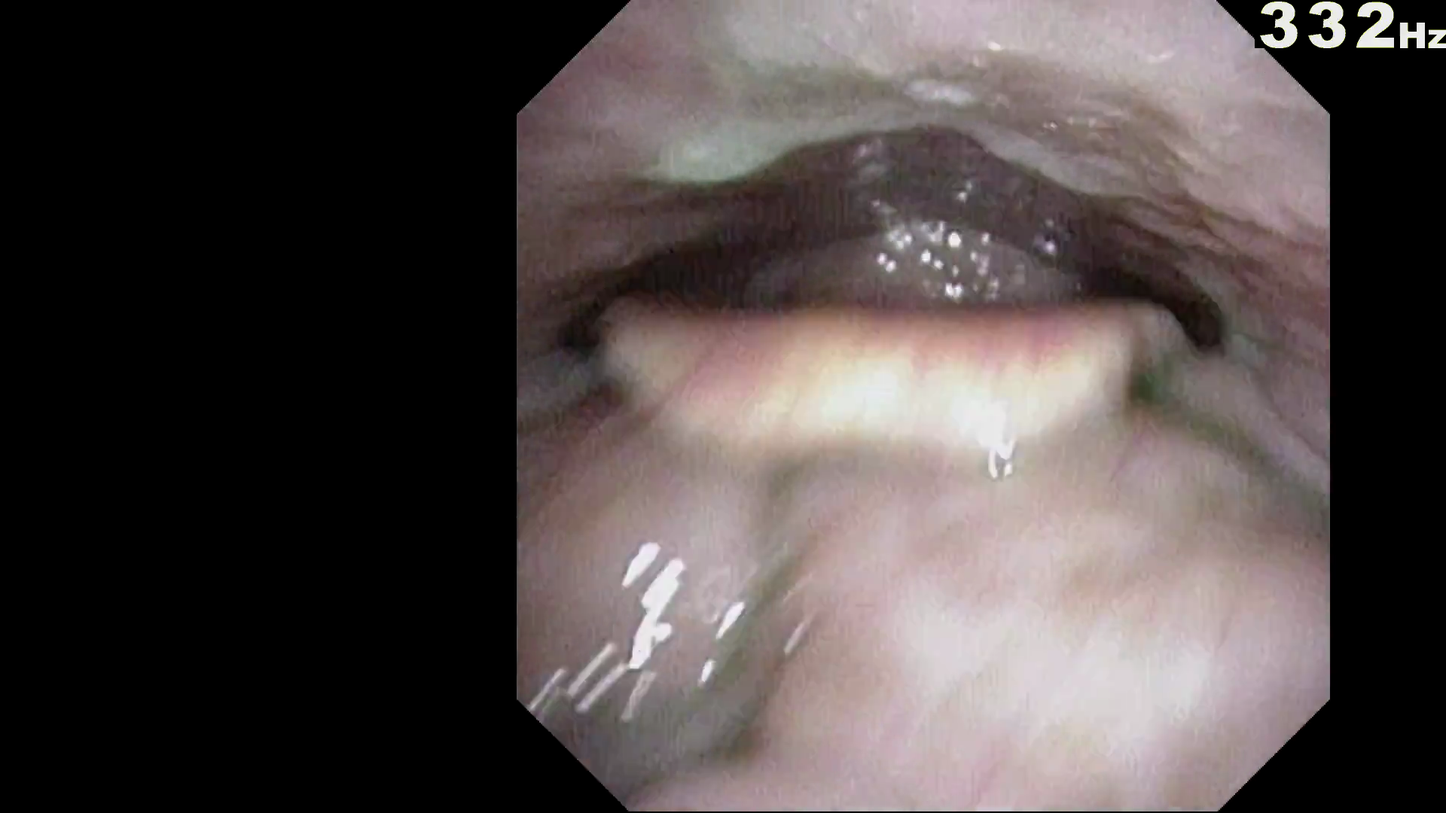epiglottis: (617, 297, 1229, 471)
